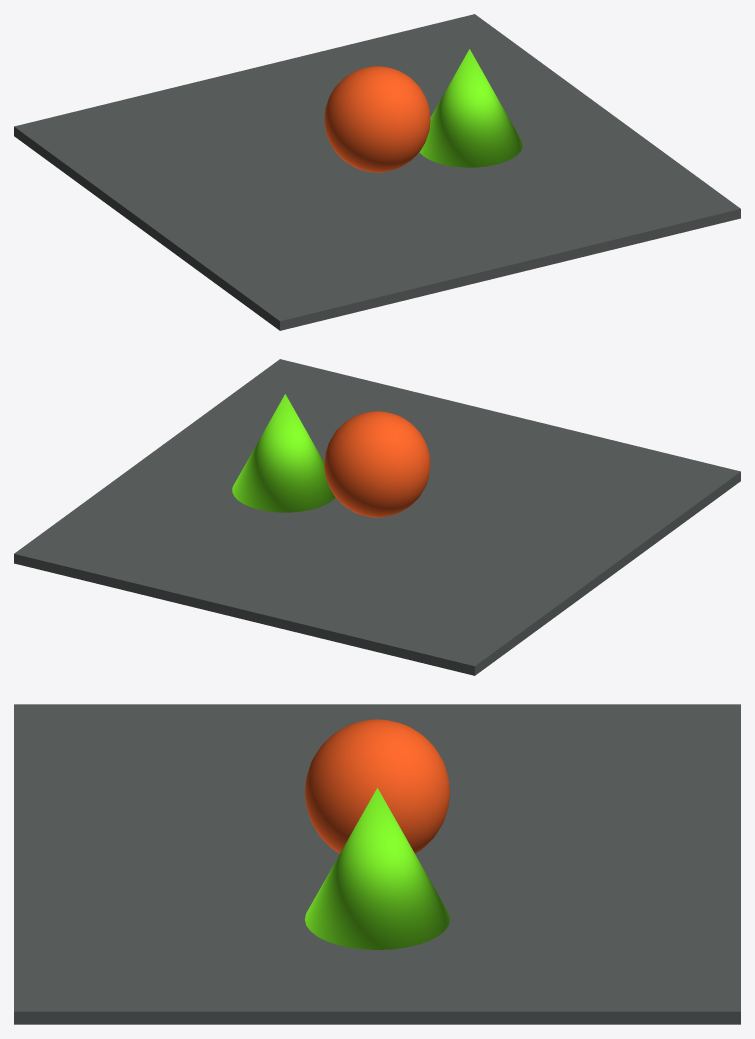
3 renders of one model, top to bottom at view 1: azimuth 30°, elevation 25°; view 2: azimuth 150°, elevation 25°; view 3: azimuth 270°, elevation 25°, orthographic. The views are drawn at different scales.
Visible parts, largest first — view 1: Floor, Sphere, Cone; view 2: Floor, Sphere, Cone; view 3: Floor, Sphere, Cone.
Boxes of the visible parts, x1,y1,x2,y2 form: Floor: (14, 14, 740, 330); Sphere: (324, 66, 430, 172); Cone: (419, 49, 522, 167); Floor: (14, 359, 740, 675); Sphere: (324, 411, 430, 517); Cone: (232, 394, 335, 512); Floor: (14, 704, 740, 1024); Sphere: (305, 719, 449, 853); Cone: (305, 788, 449, 949).
Size of the model in its own units: 10 by 2.2 by 10.
